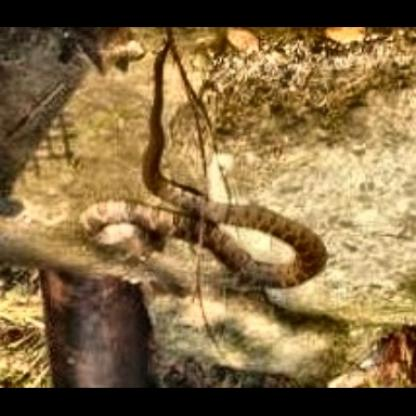Snake: (81, 41, 330, 296)
